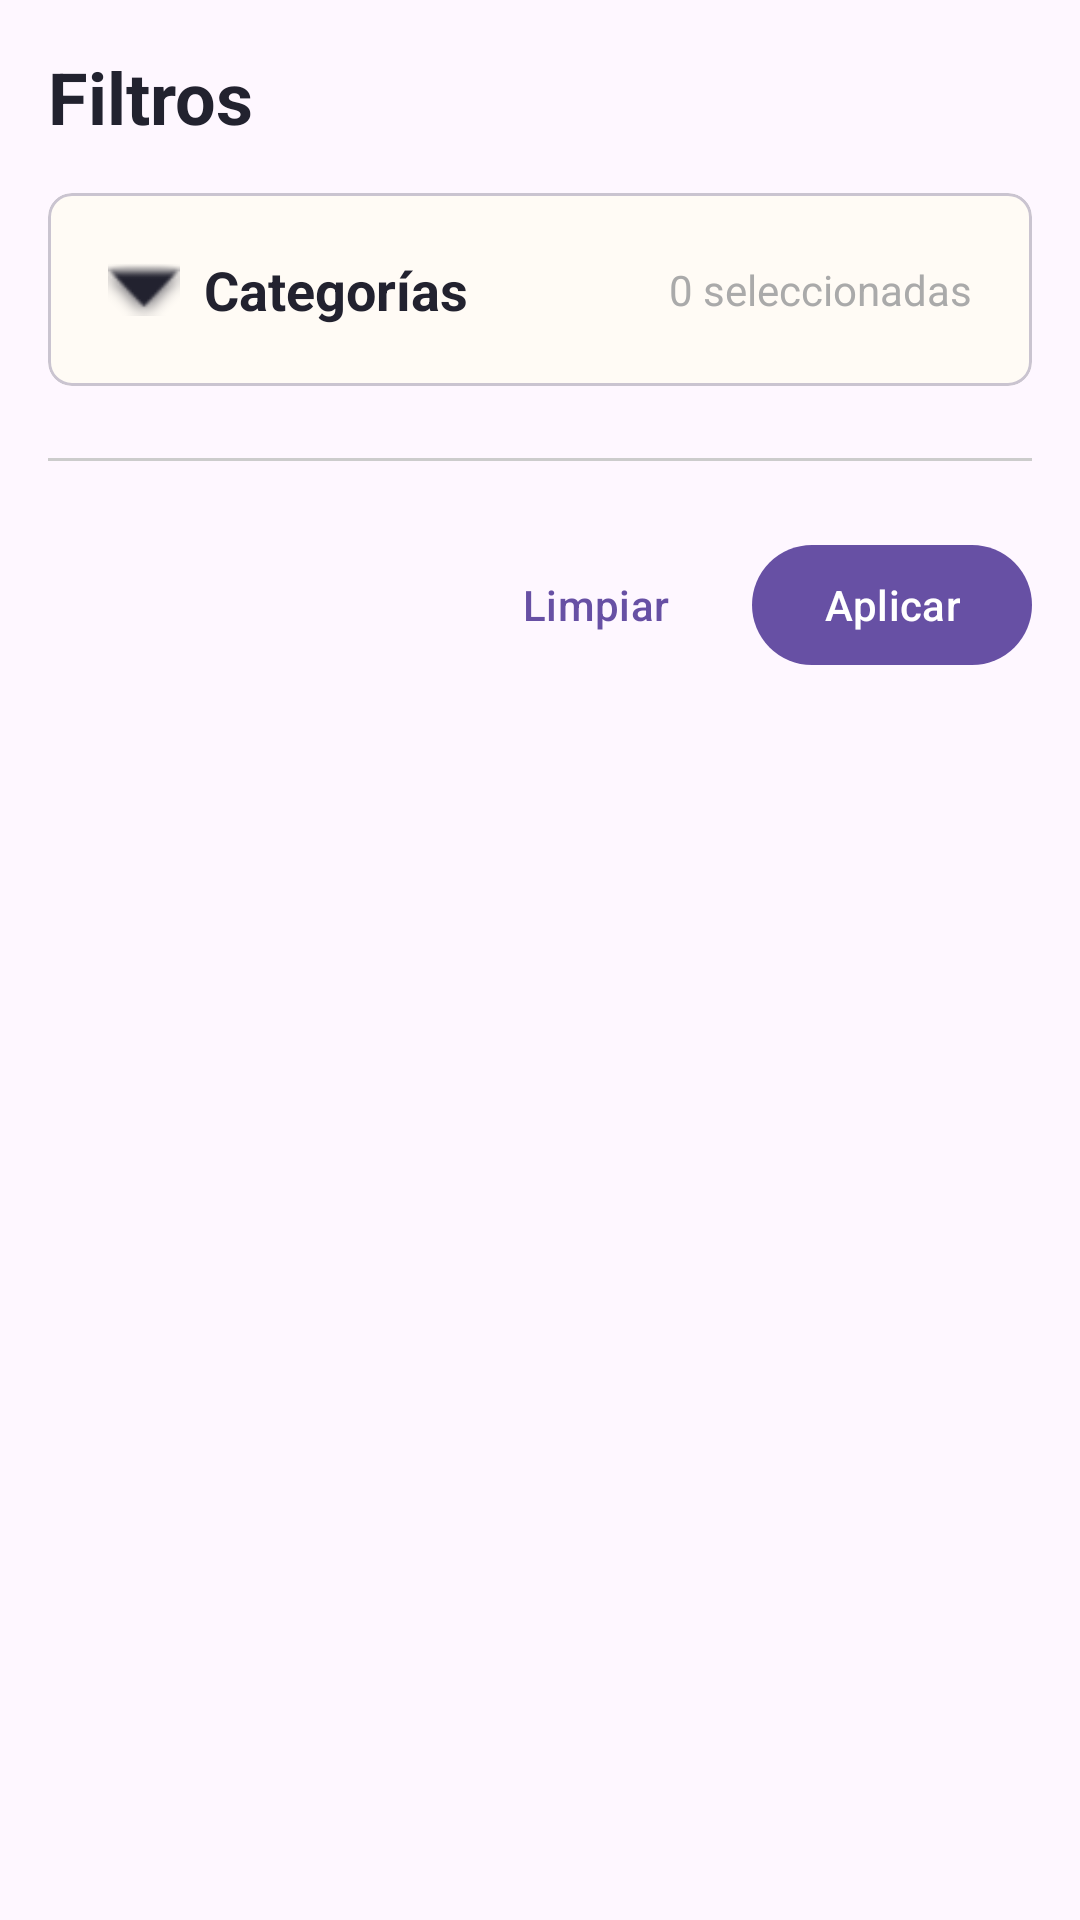

Where icons sit on this 1080*1920 app screen, as (x1, y1, x2, y2):
arrow down float: (108, 265, 180, 313)
